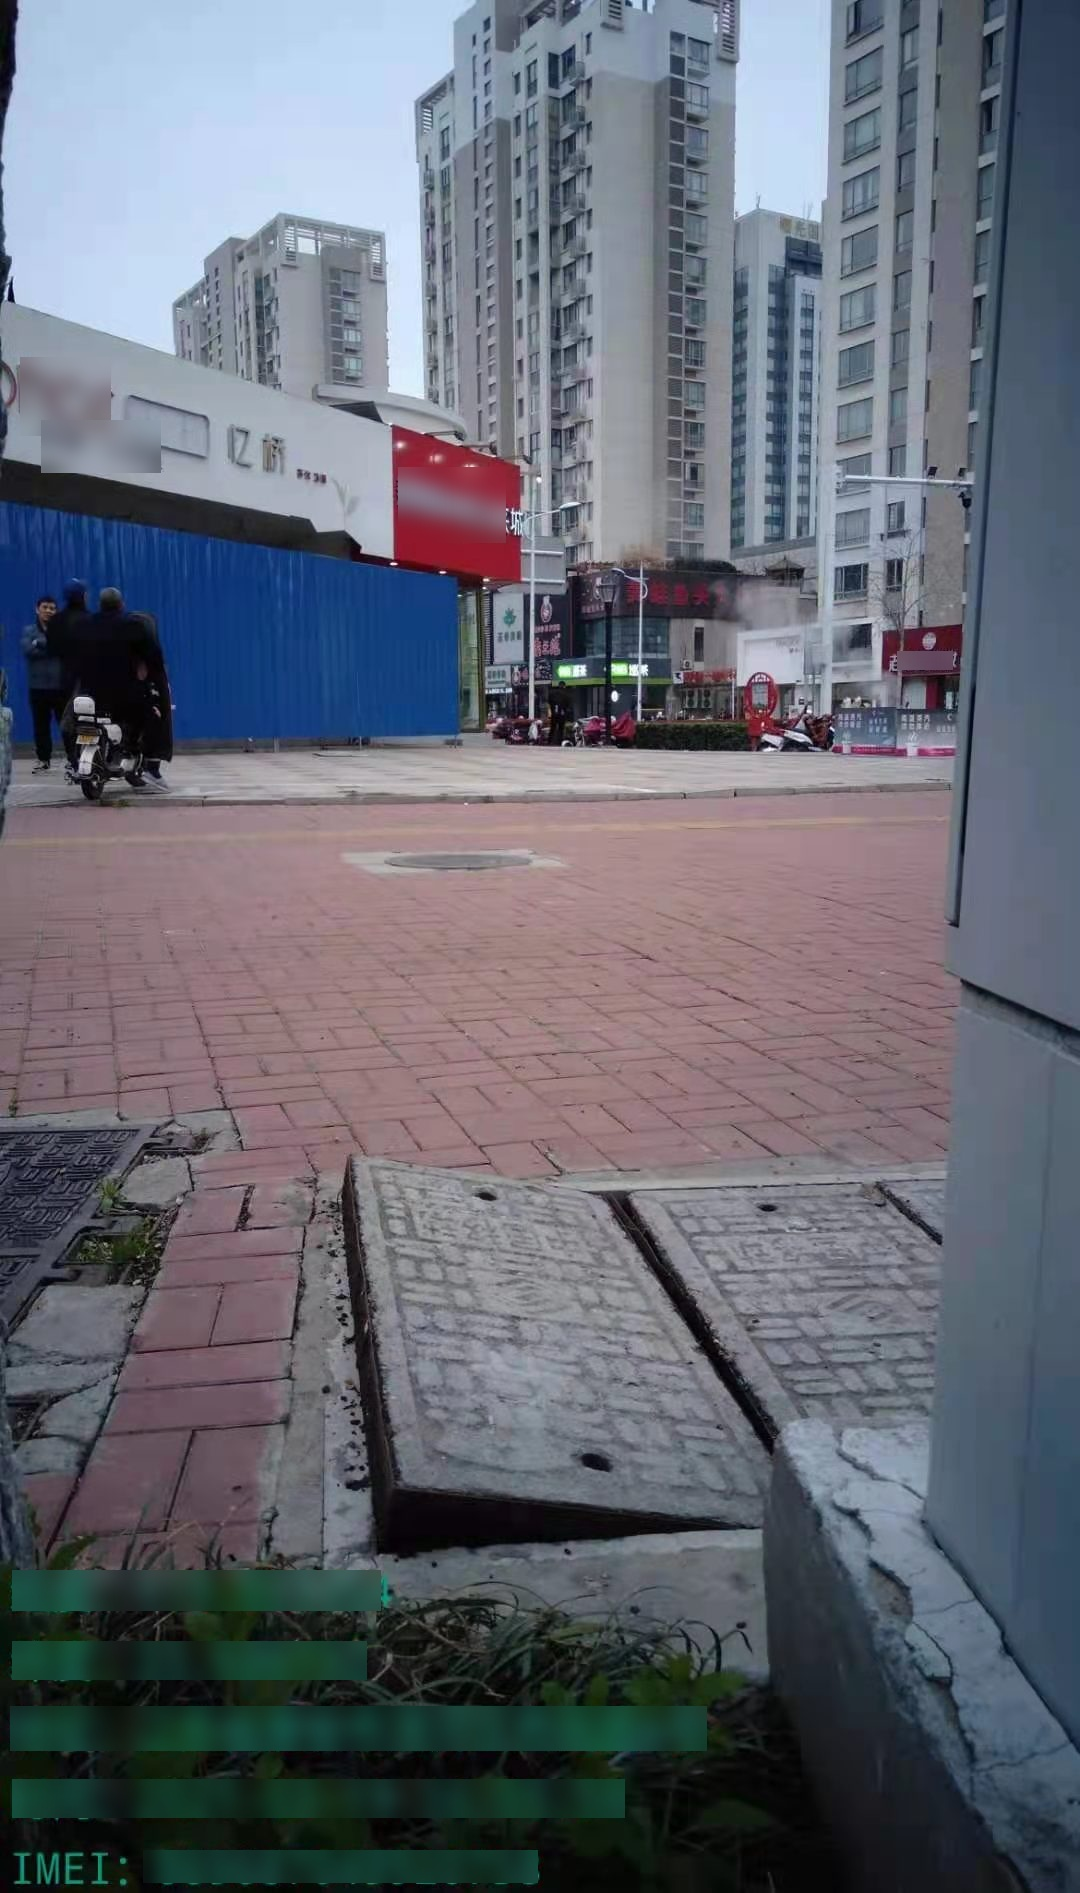uncovered: (312, 1145, 940, 1582)
